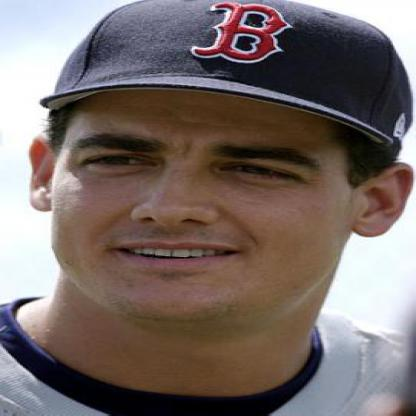face: (44, 14, 372, 331)
